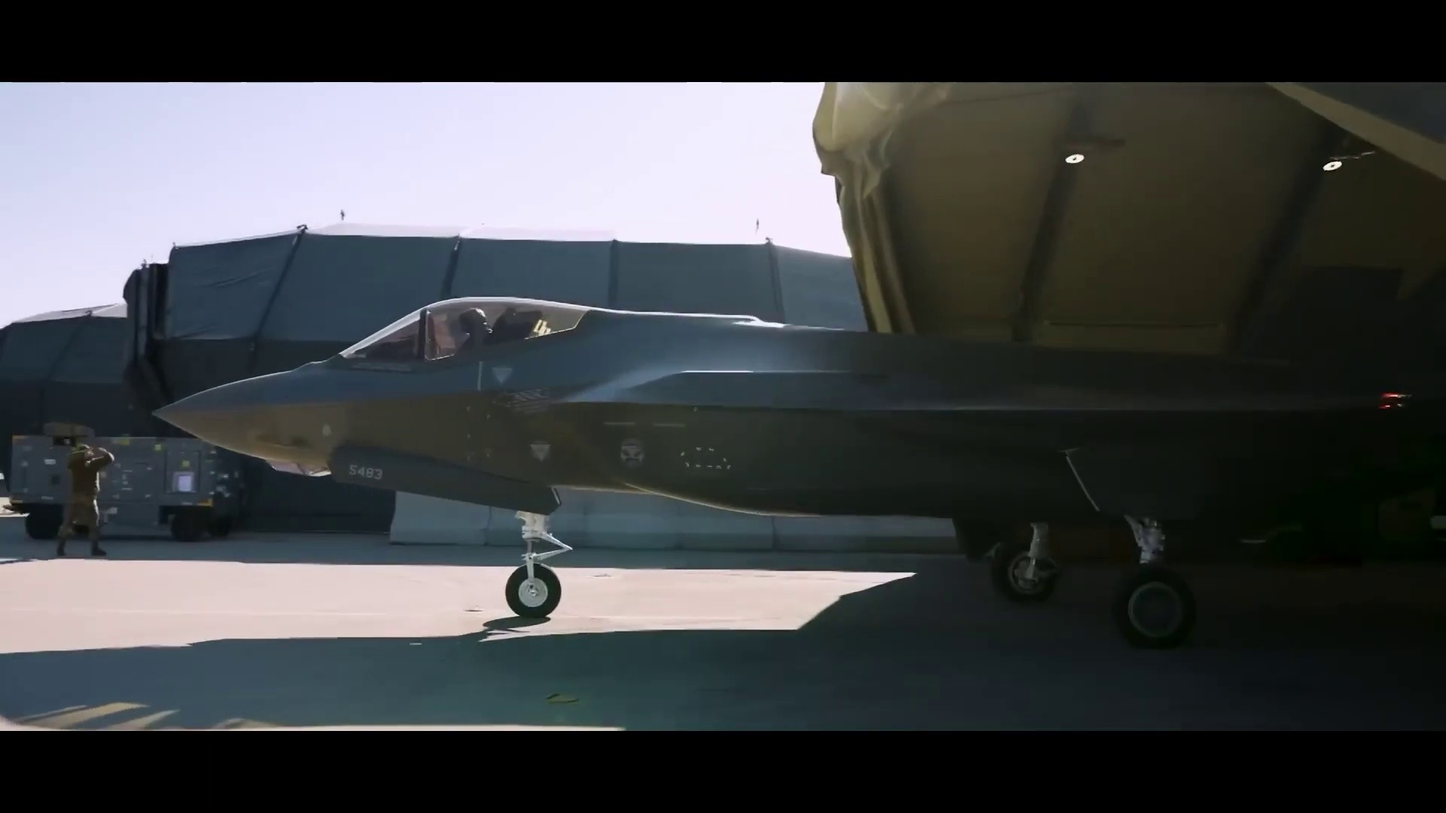F35: (145, 249, 1446, 658)
